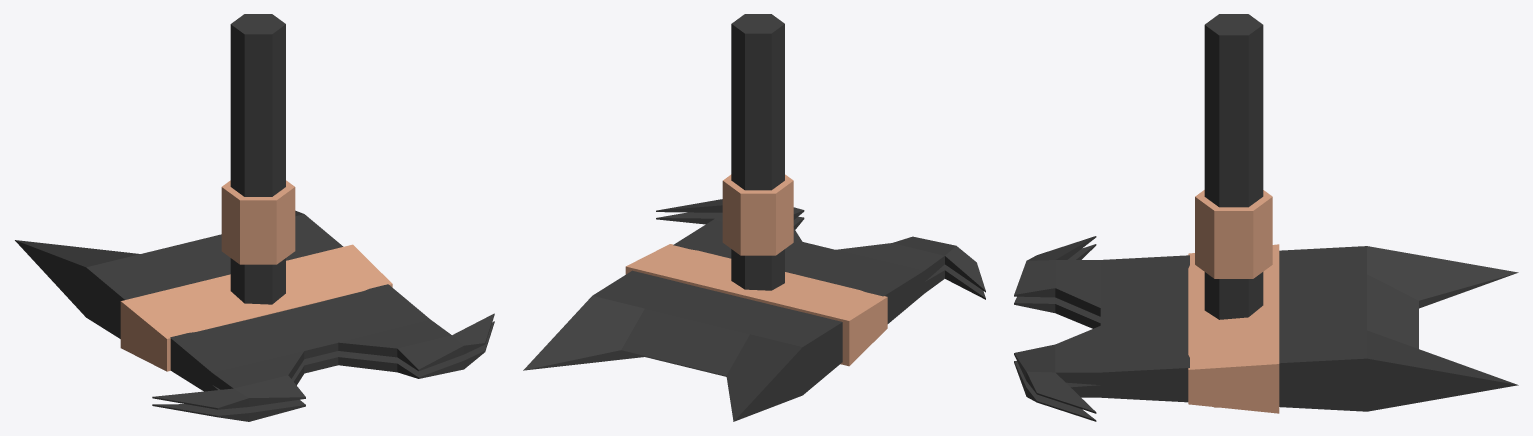
The model's file is Wave.fbx.
3 renders of one model, left to right at view 1: azimuth 30°, elevation 25°; view 2: azimuth 150°, elevation 25°; view 3: azimuth 270°, elevation 25°, orthographic. The views are drawn at different scales.
Parts seen in each view (by area): view 1: Wave; view 2: Wave; view 3: Wave.
Part boxes in pixels (<box>): Wave: <box>15,14,494,421</box>; Wave: <box>523,14,985,421</box>; Wave: <box>1014,14,1518,421</box>.
Bounding box in the file's own units: 314 × 305 × 379.
